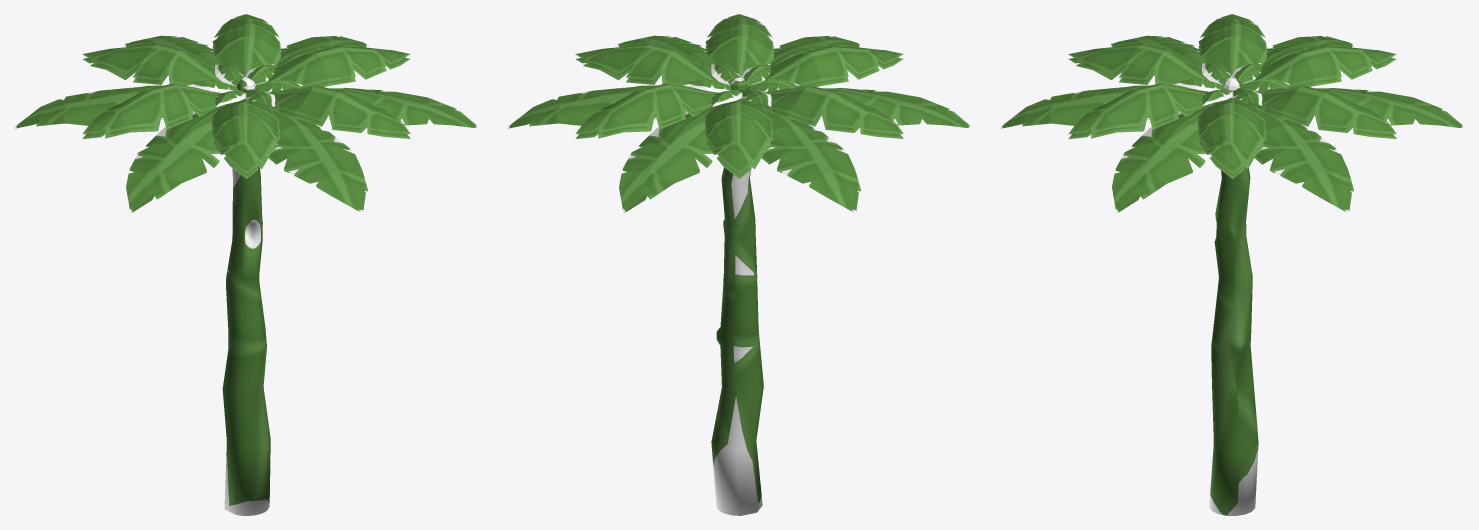
File: ARBOL V1.fbx
3 renders of one model, left to right at view 1: azimuth 30°, elevation 25°; view 2: azimuth 150°, elevation 25°; view 3: azimuth 270°, elevation 25°, orthographic.
Visible parts, largest first — view 1: TRUNK, OUTER LEAVES.005, OUTER LEAVES.004, MIDDLE LEAVES.006, MIDDLE LEAVES.005, MIDDLE LEAVES.004, MIDDLE LEAVES.001, MIDDLE LEAVES.003, MIDDLE LEAVES.002, OUTER LEAVES.006, OUTER LEAVES.003, OUTER LEAVES.002 (+5 smaller); view 2: TRUNK, OUTER LEAVES.001, OUTER LEAVES.006, MIDDLE LEAVES.002, MIDDLE LEAVES.001, MIDDLE LEAVES.006, MIDDLE LEAVES.003, MIDDLE LEAVES.005, MIDDLE LEAVES.004, OUTER LEAVES.002, OUTER LEAVES.005, OUTER LEAVES.004 (+5 smaller); view 3: TRUNK, OUTER LEAVES.003, OUTER LEAVES.002, MIDDLE LEAVES.004, MIDDLE LEAVES.003, MIDDLE LEAVES.002, MIDDLE LEAVES.005, MIDDLE LEAVES.001, MIDDLE LEAVES.006, OUTER LEAVES.004, OUTER LEAVES.001, OUTER LEAVES.006 (+5 smaller).
Boxes of the visible parts, <box> form: TRUNK: <box>222,166,270,515</box>; OUTER LEAVES.005: <box>126,104,224,212</box>; OUTER LEAVES.004: <box>264,104,367,211</box>; MIDDLE LEAVES.006: <box>82,84,222,134</box>; MIDDLE LEAVES.005: <box>212,98,280,174</box>; MIDDLE LEAVES.004: <box>267,86,410,133</box>; MIDDLE LEAVES.001: <box>82,44,221,85</box>; MIDDLE LEAVES.003: <box>267,46,409,87</box>; MIDDLE LEAVES.002: <box>212,14,280,77</box>; OUTER LEAVES.006: <box>14,85,192,127</box>; OUTER LEAVES.003: <box>279,88,478,126</box>; OUTER LEAVES.002: <box>274,36,366,68</box>; TRUNK: <box>711,166,763,515</box>; OUTER LEAVES.001: <box>619,106,717,212</box>; OUTER LEAVES.006: <box>755,103,860,211</box>; MIDDLE LEAVES.002: <box>575,84,718,134</box>; MIDDLE LEAVES.001: <box>705,98,773,174</box>; MIDDLE LEAVES.006: <box>762,86,903,133</box>; MIDDLE LEAVES.003: <box>575,44,718,87</box>; MIDDLE LEAVES.005: <box>763,46,902,87</box>; MIDDLE LEAVES.004: <box>705,14,773,76</box>; OUTER LEAVES.002: <box>507,85,685,127</box>; OUTER LEAVES.005: <box>772,88,971,126</box>; OUTER LEAVES.004: <box>770,36,859,66</box>; TRUNK: <box>1209,97,1258,515</box>; OUTER LEAVES.003: <box>1112,104,1211,212</box>; OUTER LEAVES.002: <box>1248,103,1353,211</box>; MIDDLE LEAVES.004: <box>1068,84,1213,134</box>; MIDDLE LEAVES.003: <box>1197,97,1266,174</box>; MIDDLE LEAVES.002: <box>1252,86,1396,134</box>; MIDDLE LEAVES.005: <box>1068,44,1209,89</box>; MIDDLE LEAVES.001: <box>1254,46,1396,91</box>; MIDDLE LEAVES.006: <box>1198,14,1266,75</box>; OUTER LEAVES.004: <box>1000,85,1178,127</box>; OUTER LEAVES.001: <box>1265,88,1464,126</box>; OUTER LEAVES.006: <box>1261,36,1352,68</box>.
Bounding box in the file's own units: 659 × 789 × 760.
7 materials, 7 textured.
